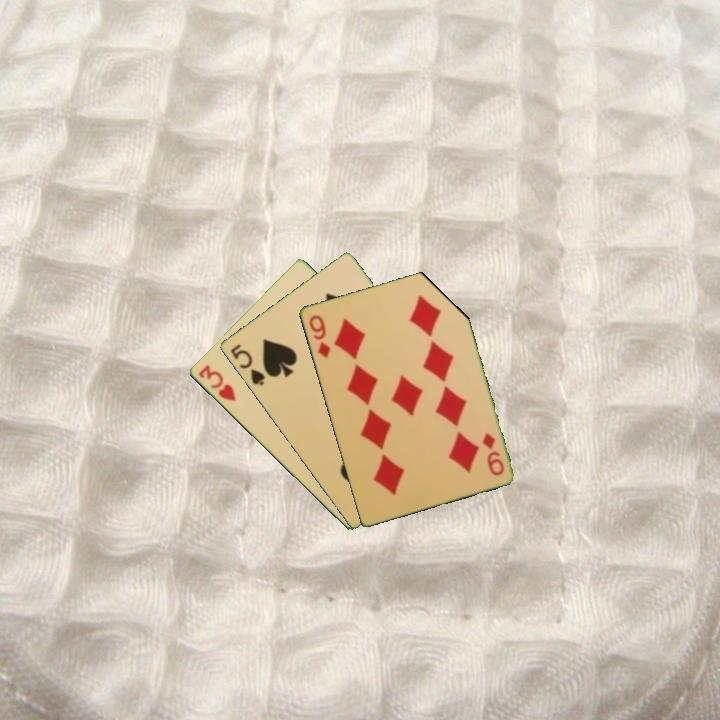3h: (194, 361, 239, 405)
5s: (226, 340, 268, 389)
9d: (478, 429, 507, 479), (305, 311, 333, 361)
